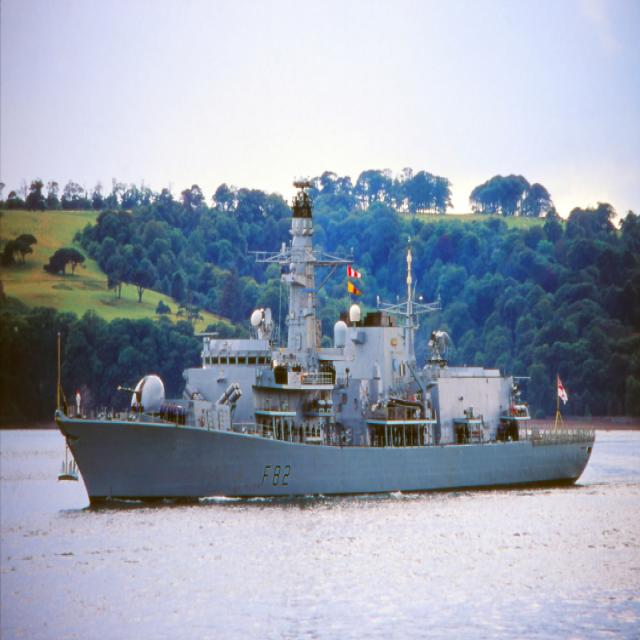Fragata: (50, 179, 599, 521)
